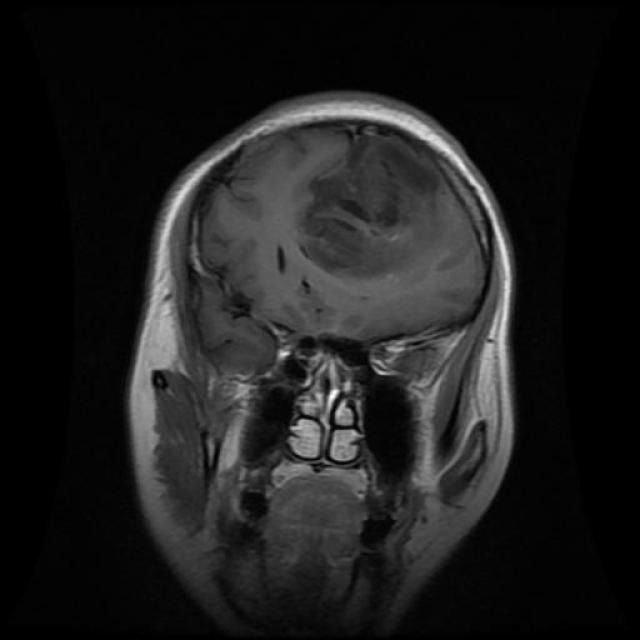glioma: (288, 156, 432, 284)
